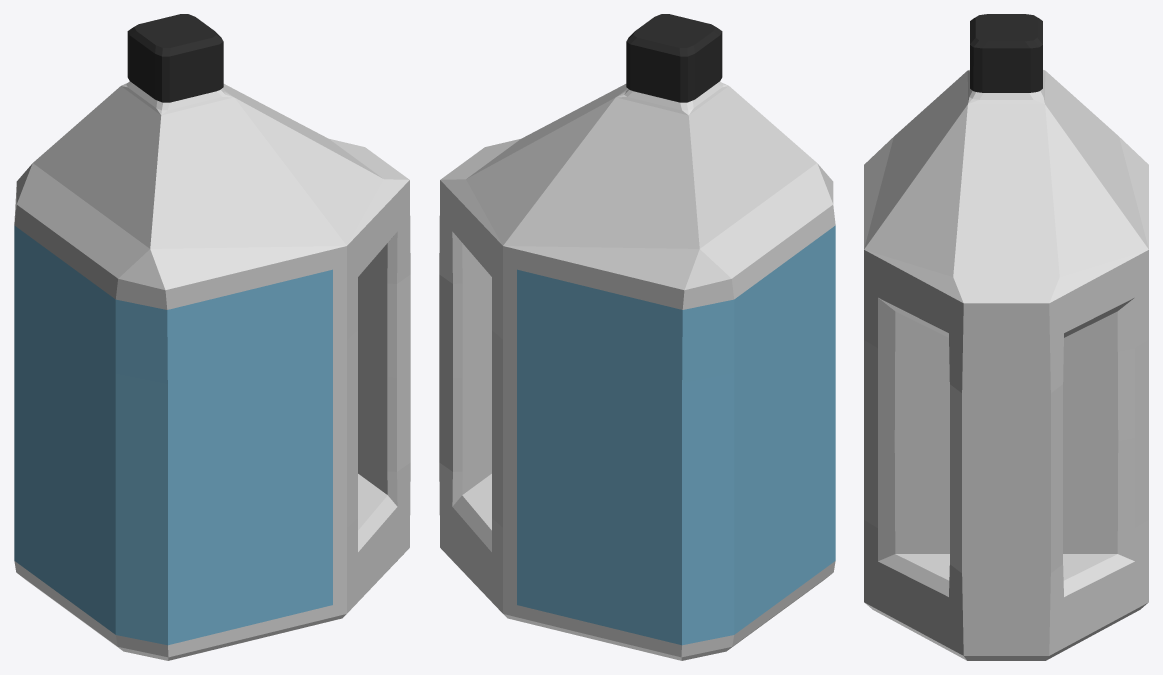
Rendered from Bleach.fbx.
The picture shows the model from 3 angles, left to right: view 1: azimuth 30°, elevation 25°; view 2: azimuth 150°, elevation 25°; view 3: azimuth 270°, elevation 25°; orthographic projection. The views are drawn at different scales.
Visible parts, largest first — view 1: Bleach; view 2: Bleach; view 3: Bleach.
Part boxes in pixels (bbox=[...]): Bleach: bbox=[14, 14, 410, 660]; Bleach: bbox=[439, 14, 835, 660]; Bleach: bbox=[864, 14, 1148, 660].
Size of the model in its own units: 24.24 by 40.23 by 19.36.
1 material, 1 textured.
